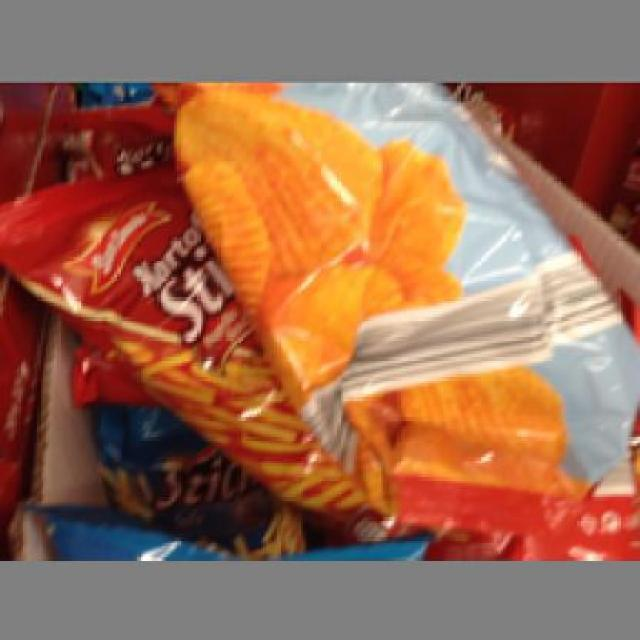Chips: (174, 83, 637, 480)
